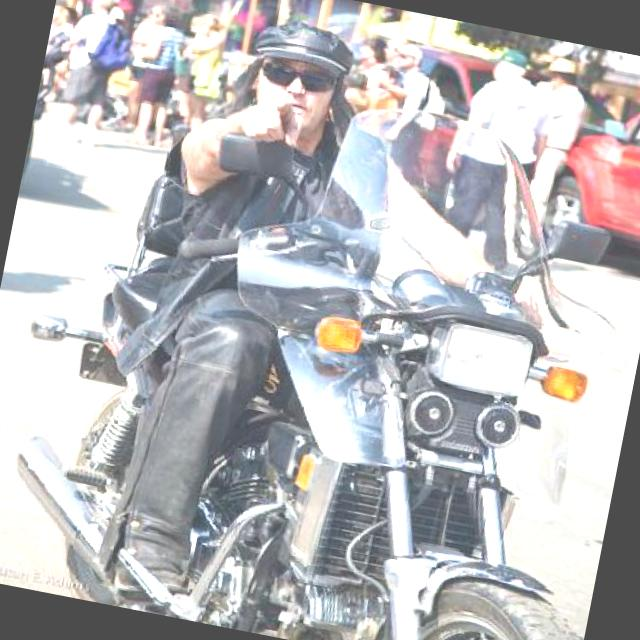Person: (69, 0, 586, 640), (421, 36, 564, 273), (31, 0, 139, 151), (508, 51, 593, 226), (118, 0, 189, 148), (359, 39, 453, 150), (171, 10, 230, 135), (354, 59, 410, 140), (349, 33, 389, 90), (335, 65, 374, 114)
